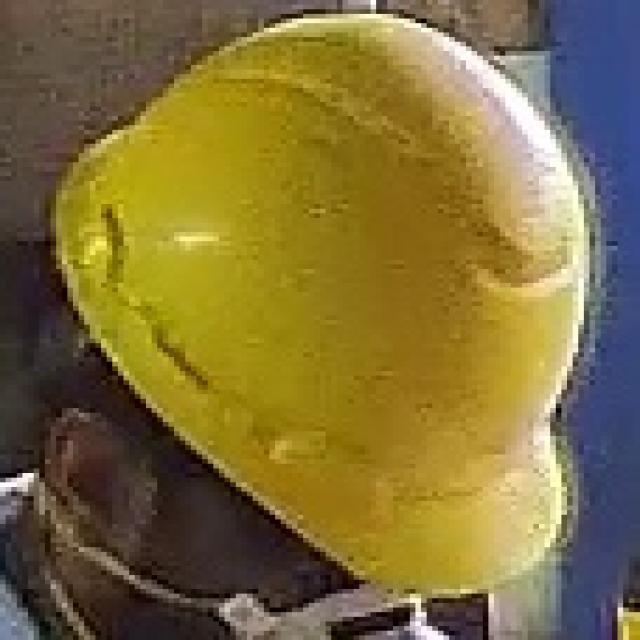yellow helmet: (45, 8, 603, 602)
